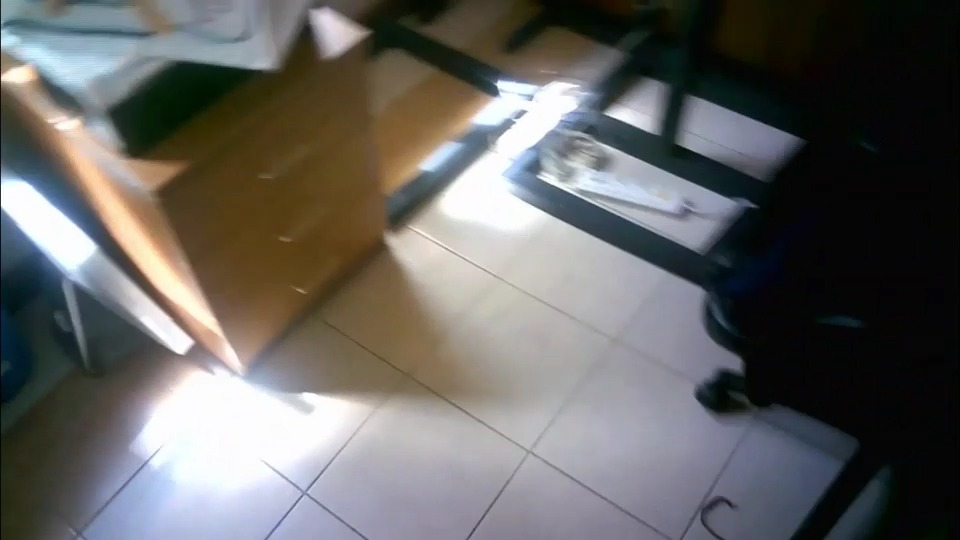wheat_flour_blue_label: (2, 3, 323, 71)
